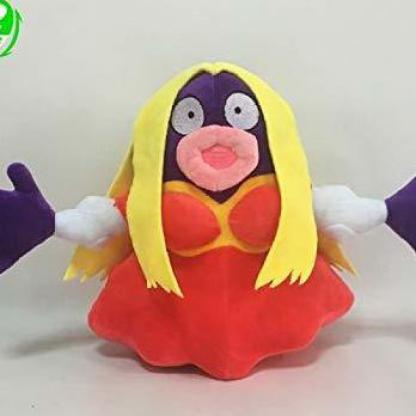Jynx: (1, 1, 416, 410)
